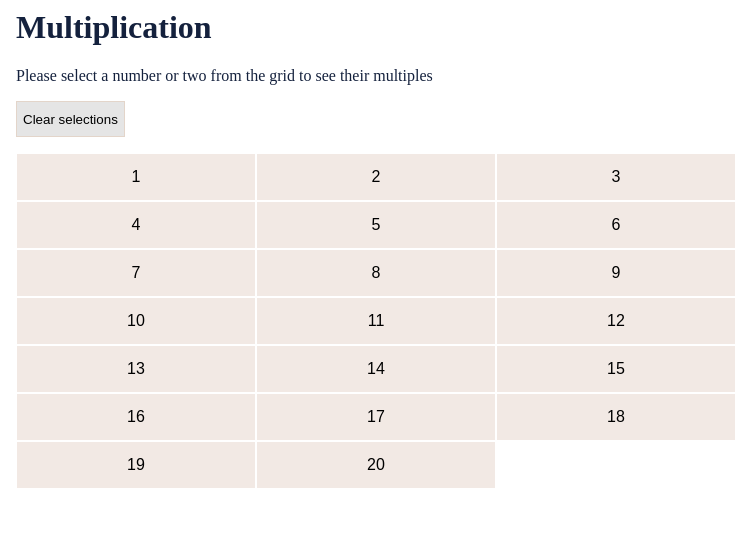
Test: displays a message when the maximum number of selections is reached
Click the button "1" at [136, 177], box [16, 153, 256, 201]
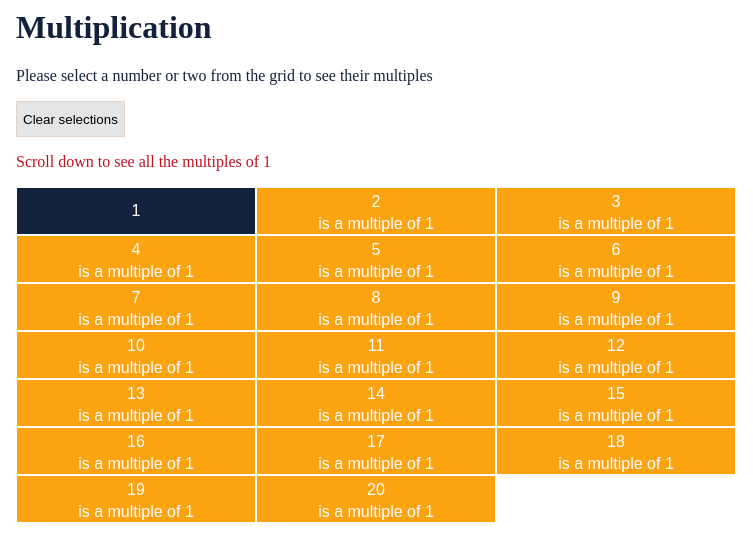
Click the button "2 is a multiple of 1" at [376, 211], box [256, 187, 496, 235]
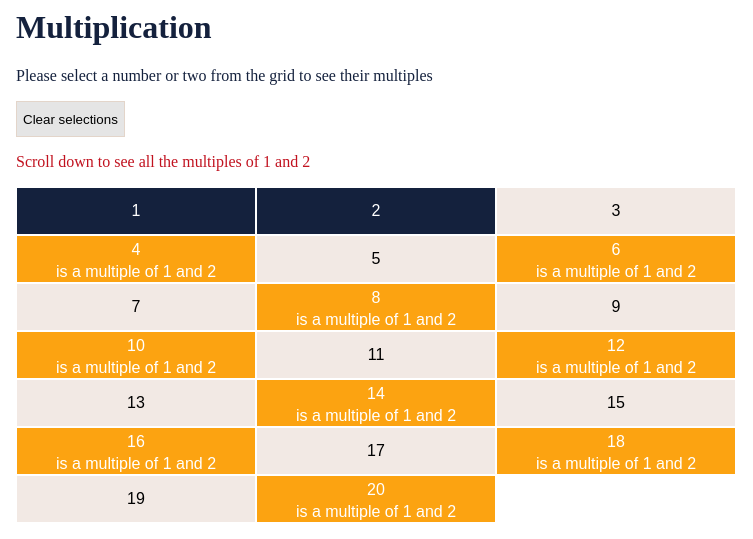
Click the button "3" at [616, 211], box [496, 187, 736, 235]
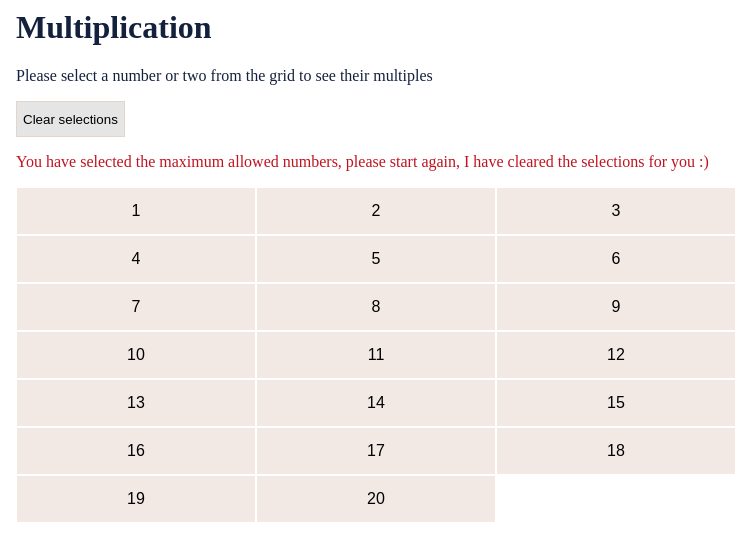
Now the text "You have selected the maximum allowed numbers, please start again, I have cleared the selections for you :)" is shown, box [16, 153, 709, 170]
